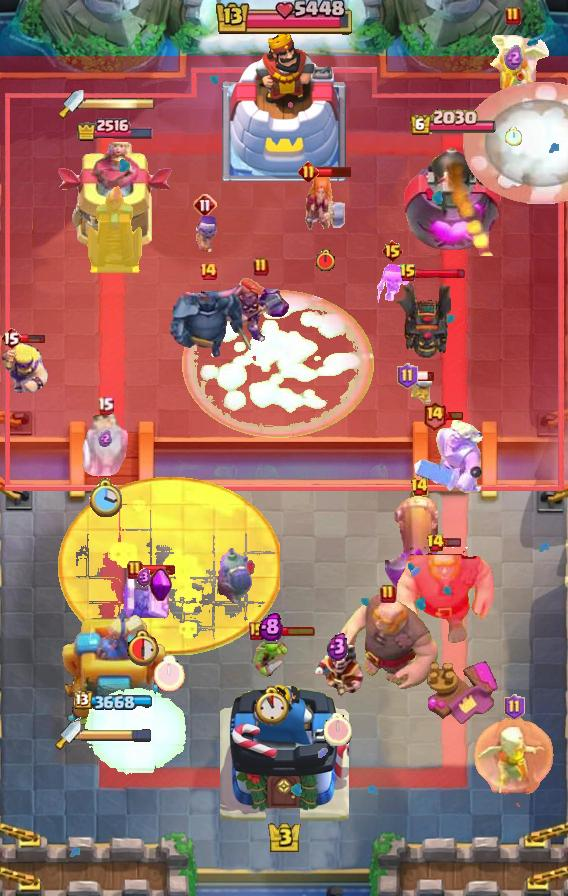archer-evolution: (391, 277, 451, 361)
arrows: (0, 337, 48, 394)
balloon: (334, 592, 442, 692), (395, 547, 497, 645)
bar: (62, 601, 166, 731), (55, 142, 173, 256)
clock: (213, 0, 355, 38)
electro-spirit: (259, 612, 283, 641), (327, 631, 349, 660), (505, 45, 524, 70), (137, 568, 151, 587), (98, 429, 112, 446)
elixir: (252, 686, 291, 726), (88, 478, 122, 519), (126, 628, 162, 666), (155, 655, 185, 693), (324, 714, 352, 746), (316, 249, 337, 272), (506, 127, 523, 146)
emote: (414, 268, 466, 281), (263, 625, 316, 637), (315, 165, 352, 178), (140, 564, 176, 576), (10, 332, 46, 343), (415, 370, 435, 382), (444, 411, 464, 422), (443, 537, 462, 548)
furnace: (385, 493, 453, 605)
goblin: (374, 264, 410, 304), (189, 214, 221, 256)
goblin-ball: (215, 539, 253, 607)
goblin-brawler: (118, 572, 170, 622)
goblin-hut: (410, 416, 488, 498)
golemite: (165, 282, 251, 358)
heal-spirit: (409, 374, 435, 406)
hog-rider: (301, 171, 349, 233)
ice-spirit-evolution-symbol: (85, 183, 145, 275)
king-tower: (219, 678, 349, 826), (222, 31, 346, 181)
king-tower-bar: (84, 97, 156, 111), (81, 728, 153, 742)
lumberjack: (312, 645, 364, 699)
mega-knight: (83, 685, 189, 778)
mortar-evolution: (78, 411, 132, 477)
phoenix-big: (181, 288, 375, 440)
phoenix-egg: (58, 477, 280, 655)
poison: (471, 717, 557, 807), (473, 28, 553, 100)
selected: (409, 109, 497, 137), (74, 116, 154, 142), (73, 691, 154, 713)
skeleton-king-skill: (149, 568, 173, 604)
tesla-evolution: (231, 277, 291, 345)
text: (422, 401, 447, 432), (193, 193, 217, 217), (381, 239, 404, 263), (398, 363, 419, 389), (504, 694, 525, 720), (0, 326, 22, 350), (297, 161, 318, 182), (198, 261, 218, 281), (411, 477, 430, 497), (427, 533, 446, 553), (399, 263, 417, 283), (505, 6, 521, 26), (253, 257, 269, 277), (127, 560, 143, 580), (380, 584, 396, 604), (98, 397, 115, 415), (249, 622, 265, 640)
tower-bar: (404, 138, 505, 256)
wall-breaker: (464, 82, 568, 204)
zap: (252, 636, 290, 678)
